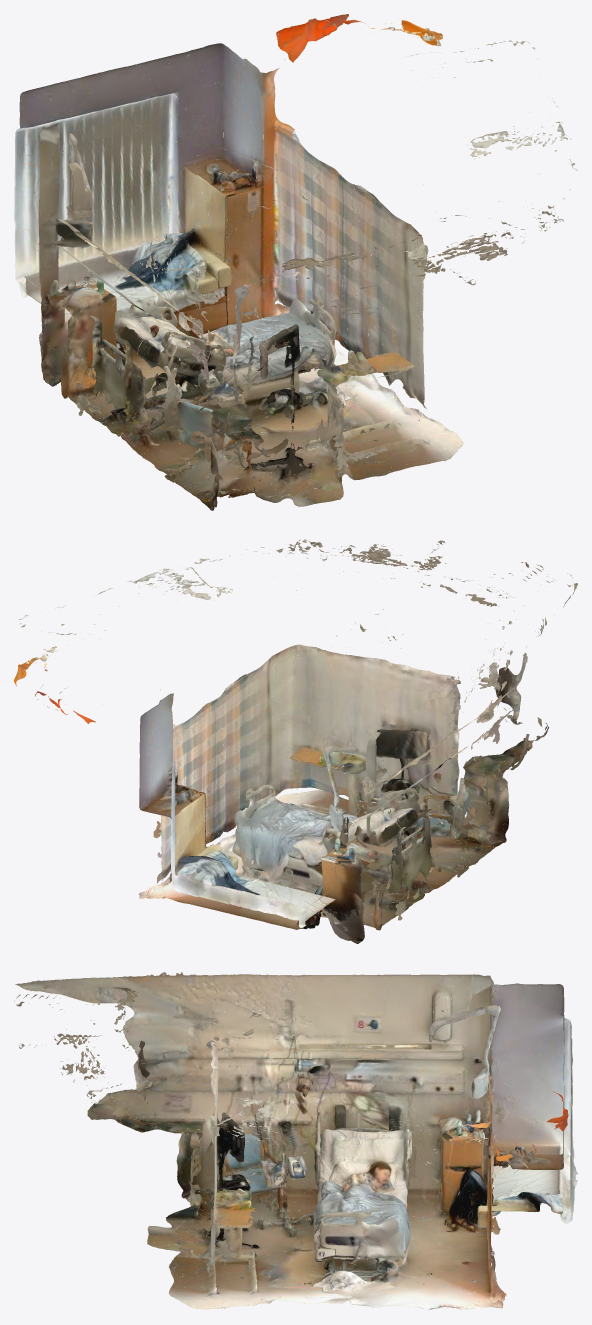
File: SUP_hospital_03.glb
3 views of the same model, one above another, from view 1: azimuth 30°, elevation 25°; view 2: azimuth 150°, elevation 25°; view 3: azimuth 270°, elevation 25° (orthographic). The views are drawn at different scales.
Parts seen in each view (by area): view 1: SUP_hospital_03; view 2: SUP_hospital_03; view 3: SUP_hospital_03.
Part boxes in pixels (x1,y1,x2,y2): SUP_hospital_03: (14,14,577,510); SUP_hospital_03: (14,539,577,943); SUP_hospital_03: (14,972,577,1310).
Bounding box in the file's own units: 5.17 × 2.89 × 6.2.
1 material, 1 textured.
